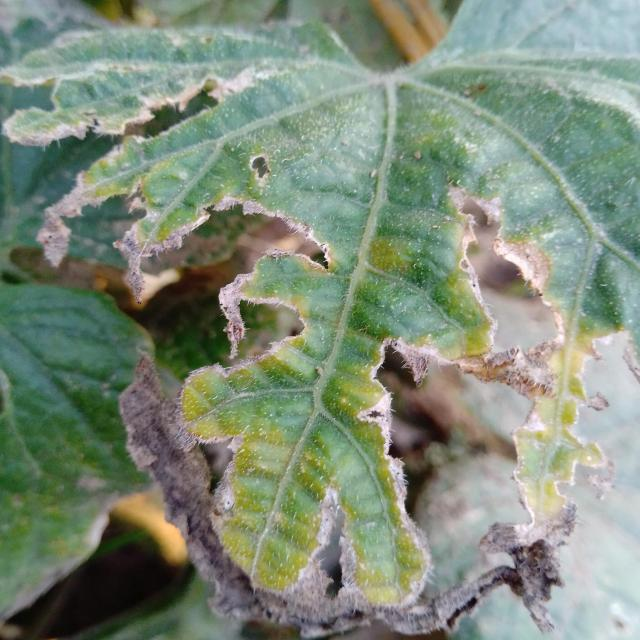cucumber_anthracnose: (15, 28, 608, 592)
